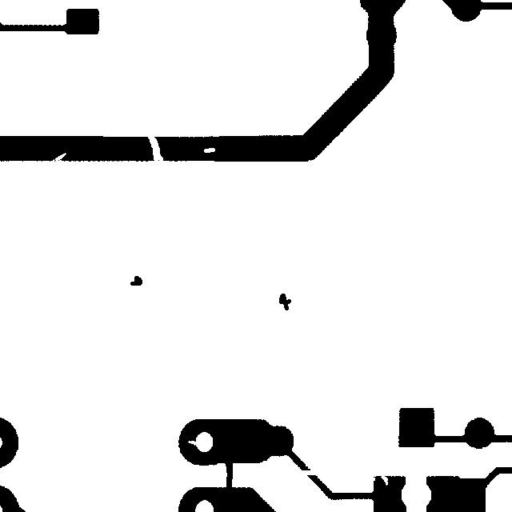copper: (271, 286, 298, 318), (122, 268, 150, 293)
mousebite: (45, 145, 74, 170), (373, 466, 395, 493), (180, 433, 203, 453)
open: (140, 126, 170, 170), (293, 462, 323, 482)
pin-hole: (196, 140, 222, 160)
short: (217, 450, 241, 498)
